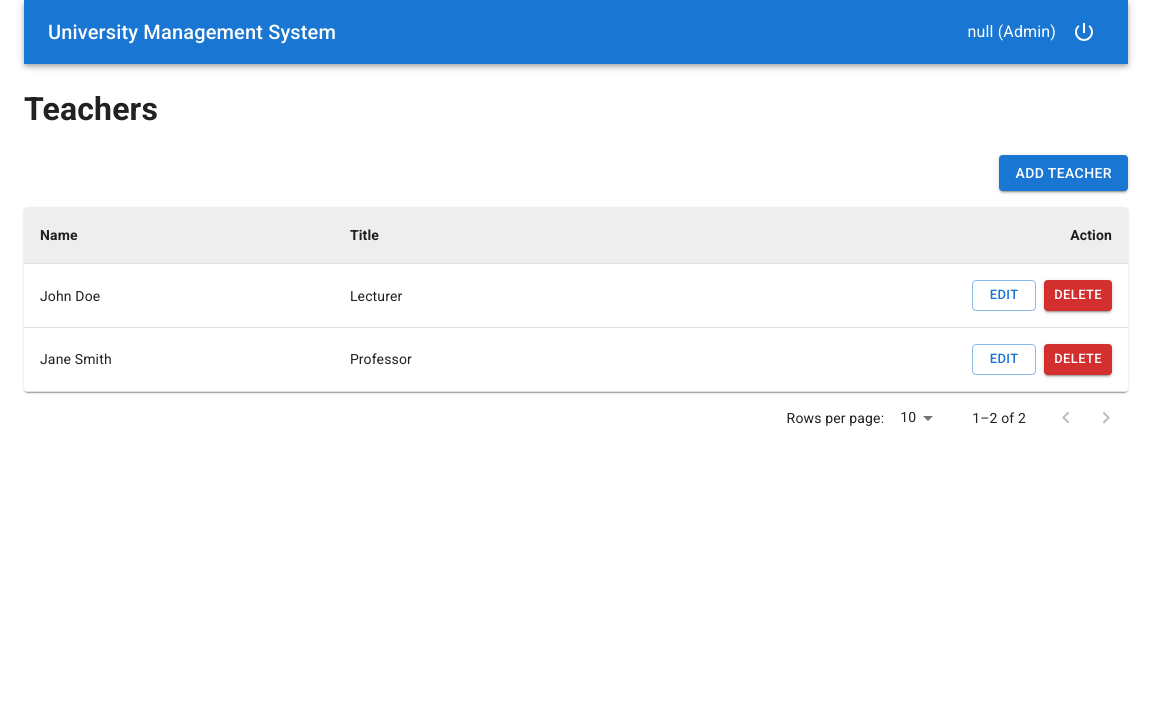
Test: TeacherPage › sends DELETE to the correct URL, refreshes table, and shows success snackbar
Check: the text "John Doe" is shown, box [24, 264, 334, 328]
Click the button "Delete" in the row of "John Doe": (1078, 296) [1044, 280, 1112, 311]
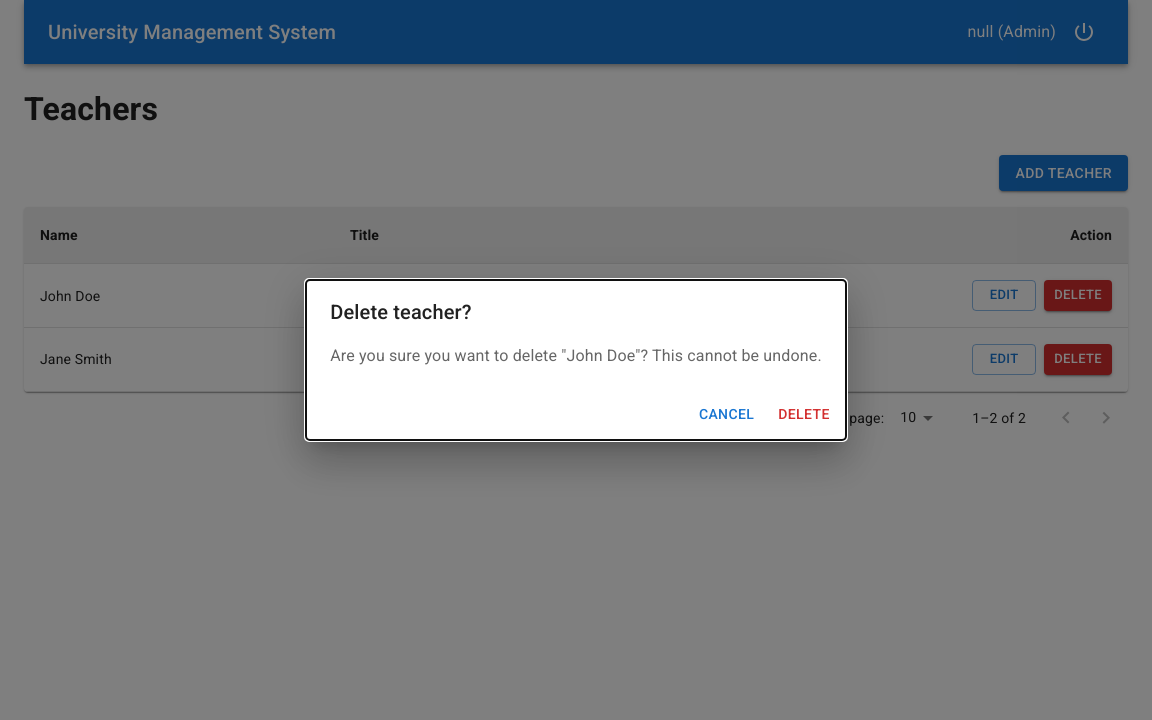
Check: the heading "Delete teacher?" is shown, box [330, 300, 472, 324]
Click the button "Delete": (804, 414) [770, 396, 838, 432]
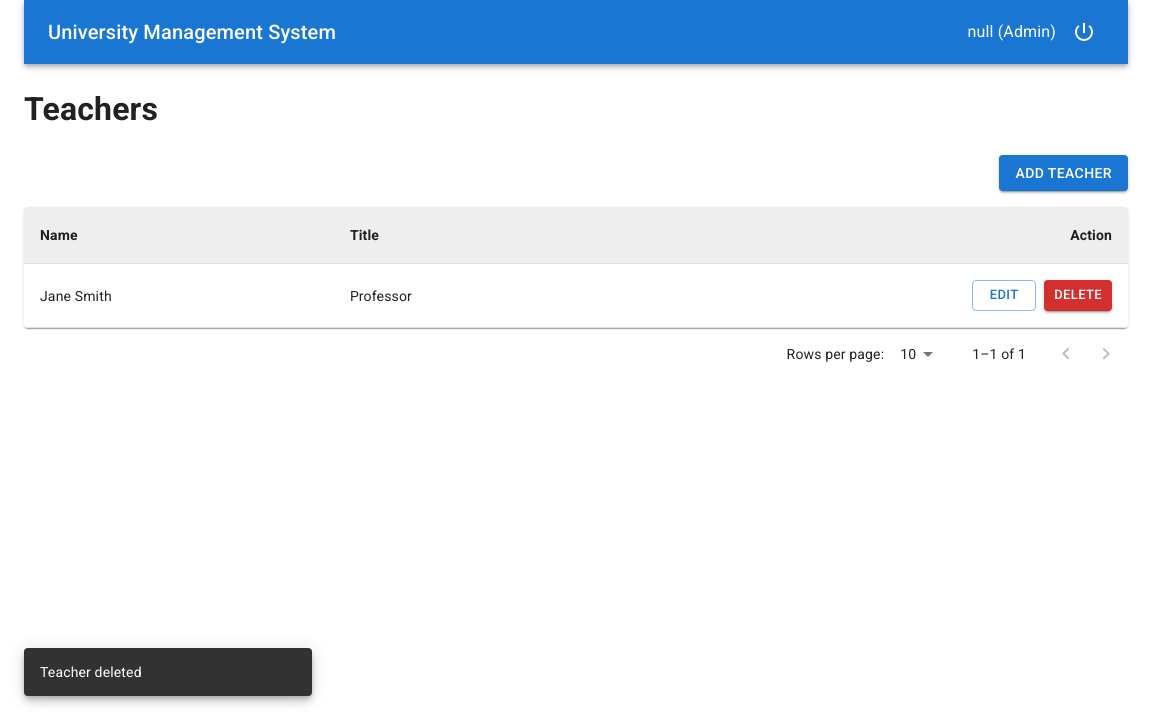
Check: the text "Teacher deleted" is shown, box [40, 664, 142, 680]
Check: the text "John Doe" is gone
